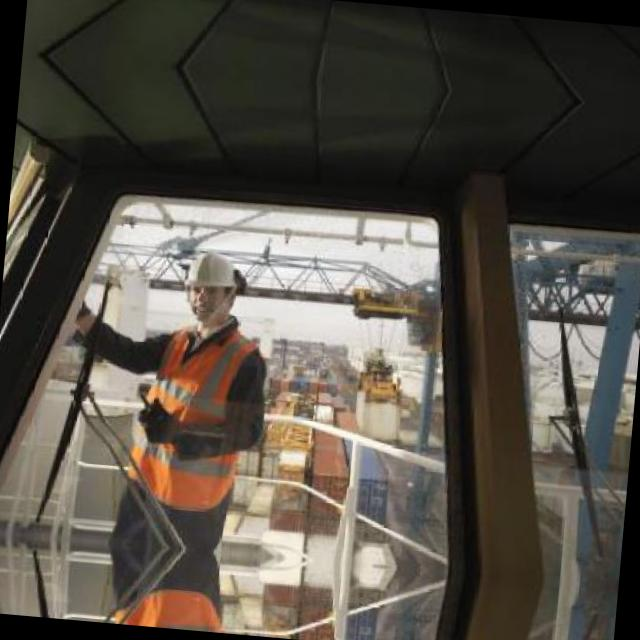helmet: (175, 245, 248, 327)
